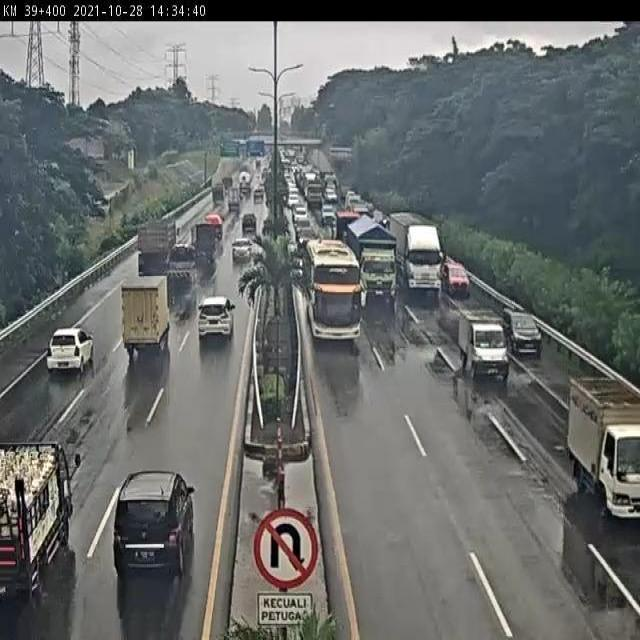big bus: (302, 237, 368, 360)
big truck: (393, 219, 447, 309), (357, 219, 406, 308), (133, 220, 181, 275)
car: (103, 469, 208, 592), (448, 303, 518, 396), (38, 314, 103, 389), (503, 307, 549, 372), (189, 290, 239, 346), (444, 258, 474, 306), (231, 229, 251, 276)
small truck: (560, 367, 640, 561), (1, 442, 86, 614), (115, 272, 172, 375)
